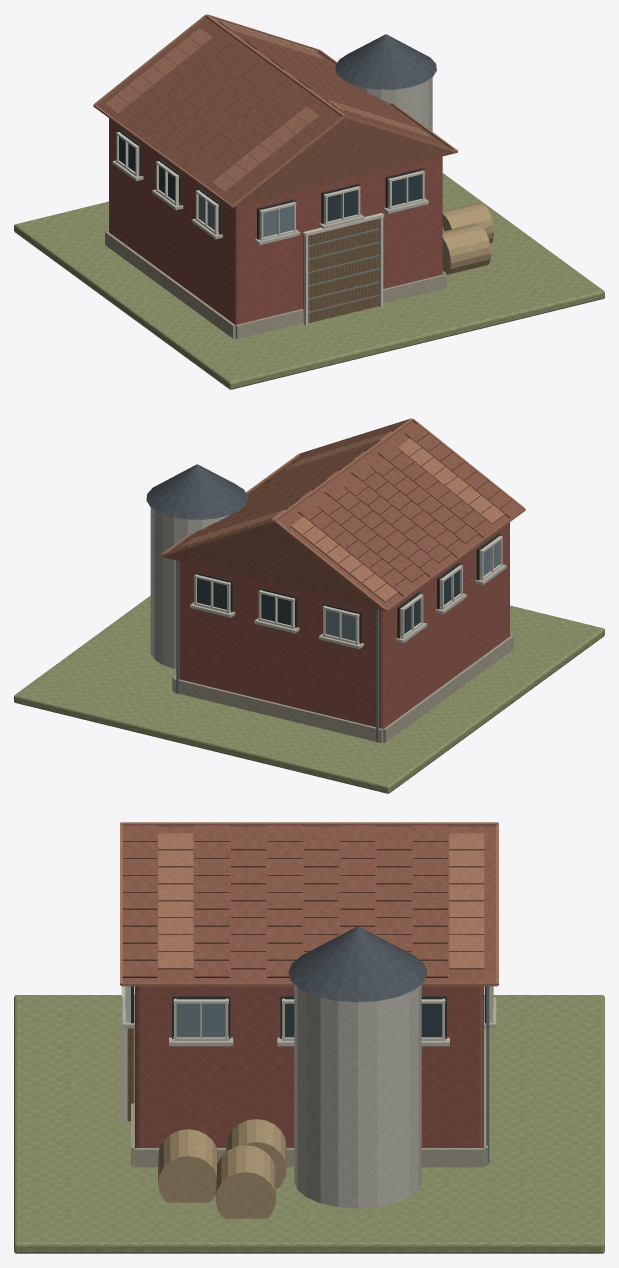
The model's file is AGR_BARN_2x2_001.glb.
3 views of the same model, one above another, from view 1: azimuth 30°, elevation 25°; view 2: azimuth 150°, elevation 25°; view 3: azimuth 270°, elevation 25° (orthographic). The views are drawn at different scales.
Parts seen in each view (by area): view 1: AGR_BARN_2x2_001_Visual; view 2: AGR_BARN_2x2_001_Visual; view 3: AGR_BARN_2x2_001_Visual.
Part boxes in pixels (x1,y1,x2,y2): AGR_BARN_2x2_001_Visual: (14, 14, 604, 389); AGR_BARN_2x2_001_Visual: (14, 418, 604, 793); AGR_BARN_2x2_001_Visual: (14, 822, 604, 1253).
Size of what is drawn, in the model's own units: 3.9 by 2.07 by 3.9.
14 materials, 9 textured.
